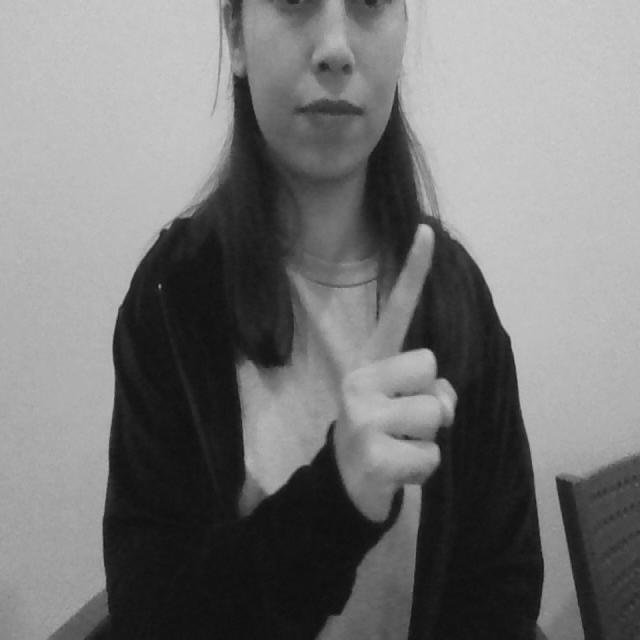Hayir: (324, 201, 464, 545)
